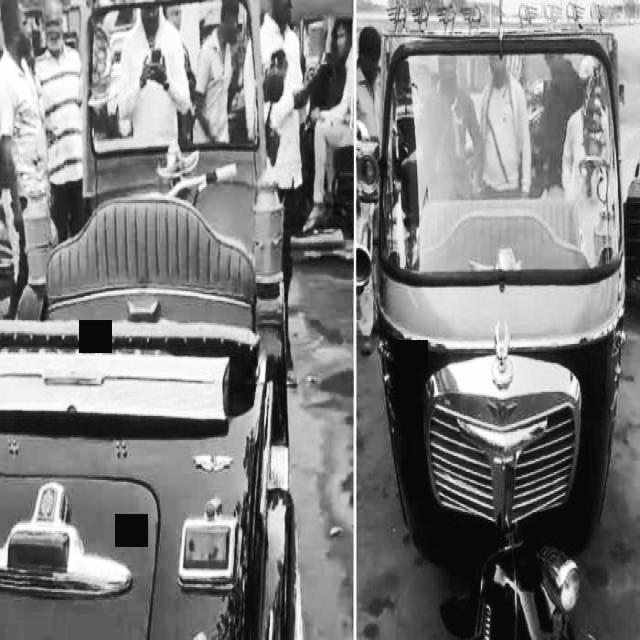Auto-Rickshaw: (365, 3, 635, 640)
